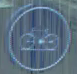bike lane: (4, 3, 70, 65)
